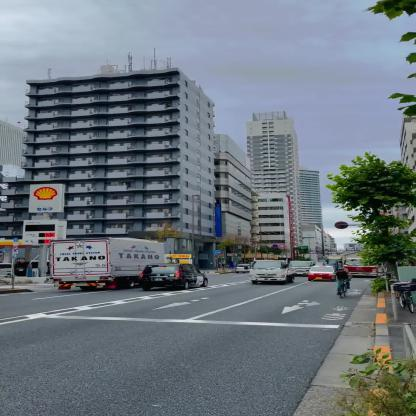car: (140, 263, 210, 291), (308, 265, 336, 281)
motorcycle: (336, 268, 350, 297)
truck: (50, 237, 171, 293), (246, 260, 297, 282)
